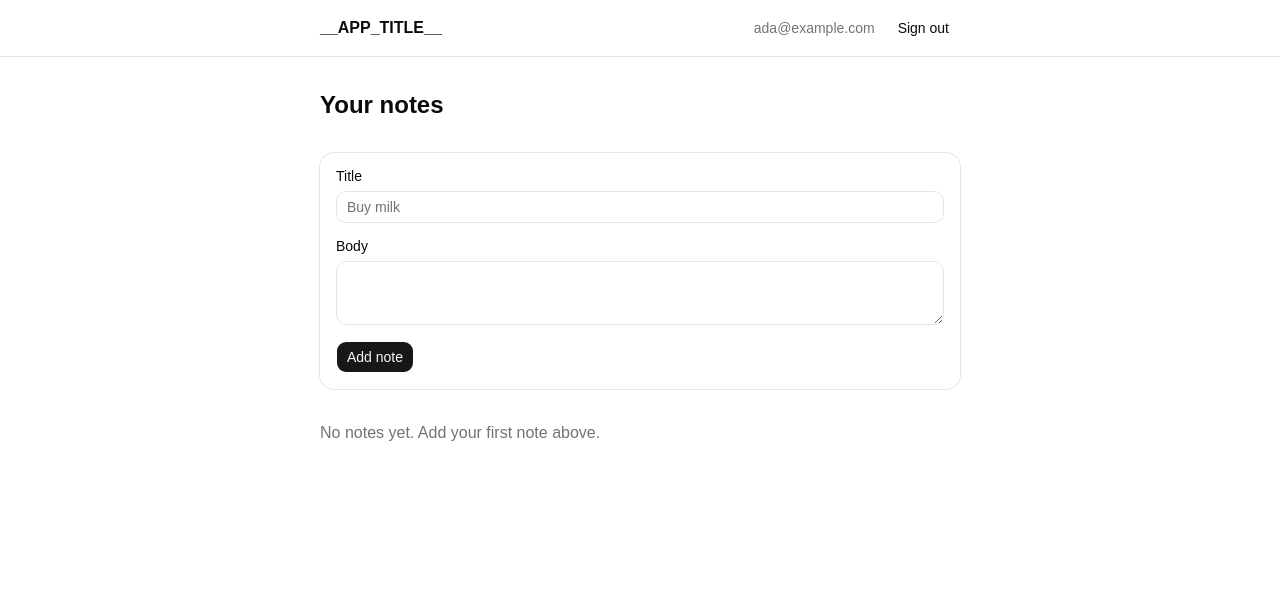
notes page (list + create against the API) › signs out and returns to the sign-in page
This screenshot has width=1280, height=602.
expect the text "No notes yet. Add your first note above." is shown: met, box x1=320 y1=424 x2=600 y2=441
Click the button "Sign out" at [923, 28], box x1=887 y1=12 x2=960 y2=44
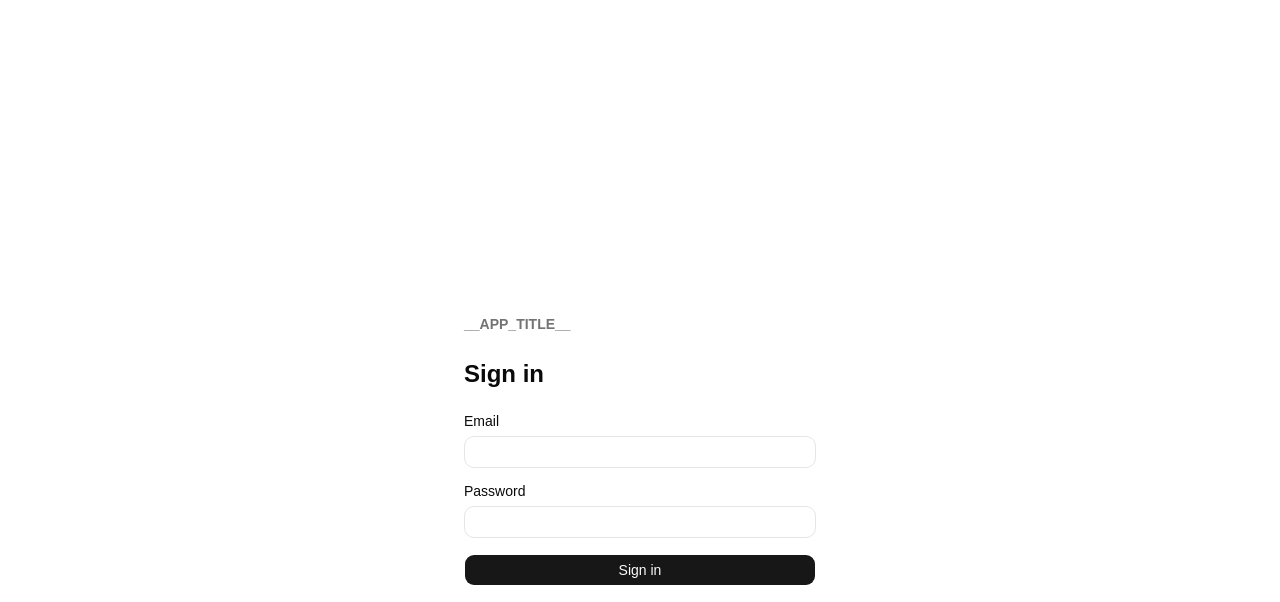
expect the heading "Sign in" is shown: met, box x1=464 y1=360 x2=544 y2=387
